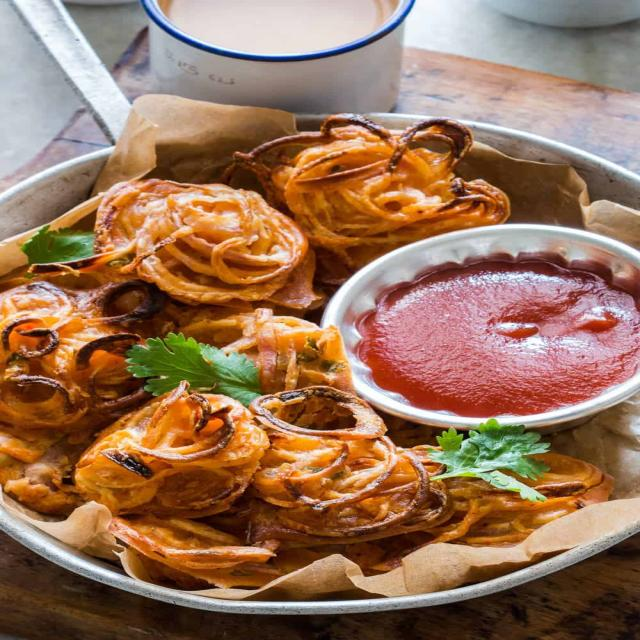BAJI: (0, 180, 612, 594), (241, 118, 509, 282)
